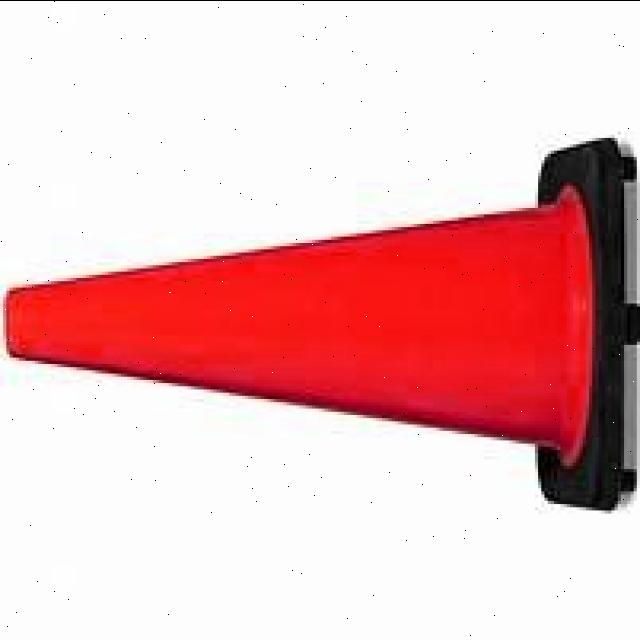traffic cone: (3, 131, 640, 526)
